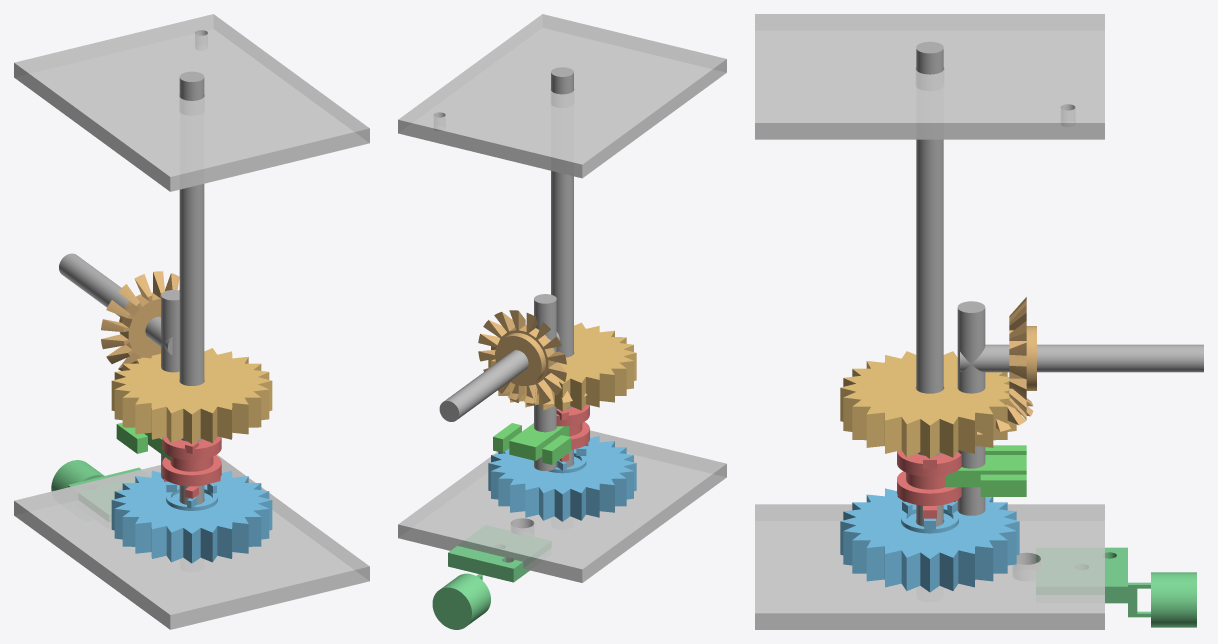
File: full_assembly.glb
3 renders of one model, left to right at view 1: azimuth 30°, elevation 25°; view 2: azimuth 150°, elevation 25°; view 3: azimuth 270°, elevation 25°, orthographic. The views are drawn at different scales.
Visible parts, largest first — view 1: housing_back_part, housing_front_part, gear_a_part, gear_b_part, axle_main_part, bevel_driving_part, dog_clutch_part, axle_s_part, flexure_block_part, lever_pivot_part, lever_part; view 2: housing_back_part, housing_front_part, gear_a_part, flexure_block_part, gear_b_part, bevel_driving_part, axle_main_part, axle_s_part, lever_part, lever_pivot_part, dog_clutch_part; view 3: housing_back_part, housing_front_part, gear_a_part, gear_b_part, axle_main_part, flexure_block_part, axle_s_part, lever_pivot_part, dog_clutch_part, lever_part, bevel_driving_part.
Boxes of the visible parts, x1,y1,x2,y2 form: housing_back_part: (14,14,369,191); housing_front_part: (14,455,369,629); gear_a_part: (111,470,272,563); gear_b_part: (111,348,272,443); axle_main_part: (179,71,204,504); bevel_driving_part: (101,271,179,370); dog_clutch_part: (162,436,221,498); axle_s_part: (59,253,172,355); flexure_block_part: (51,460,150,521); lever_pivot_part: (161,290,179,479); lever_part: (116,422,170,460); housing_back_part: (398,14,726,178); housing_front_part: (398,430,726,582); gear_a_part: (488,436,636,521); flexure_block_part: (432,525,550,629); gear_b_part: (488,322,636,411); bevel_driving_part: (478,310,566,405); axle_main_part: (551,67,573,467); axle_s_part: (439,332,559,421); lever_part: (493,423,571,464); lever_pivot_part: (534,294,556,470); dog_clutch_part: (556,404,589,461); housing_back_part: (755,14,1104,139); housing_front_part: (755,504,1104,629); gear_a_part: (840,488,1019,592); gear_b_part: (840,351,1016,458); axle_main_part: (916,41,943,526); flexure_block_part: (1036,547,1196,627); axle_s_part: (960,344,1203,372); lever_pivot_part: (957,301,985,515); dog_clutch_part: (897,450,961,518); lever_part: (945,445,1026,496); bevel_driving_part: (1009,297,1036,419).
Bounding box in the file's own units: 56 × 138 × 97.5.
